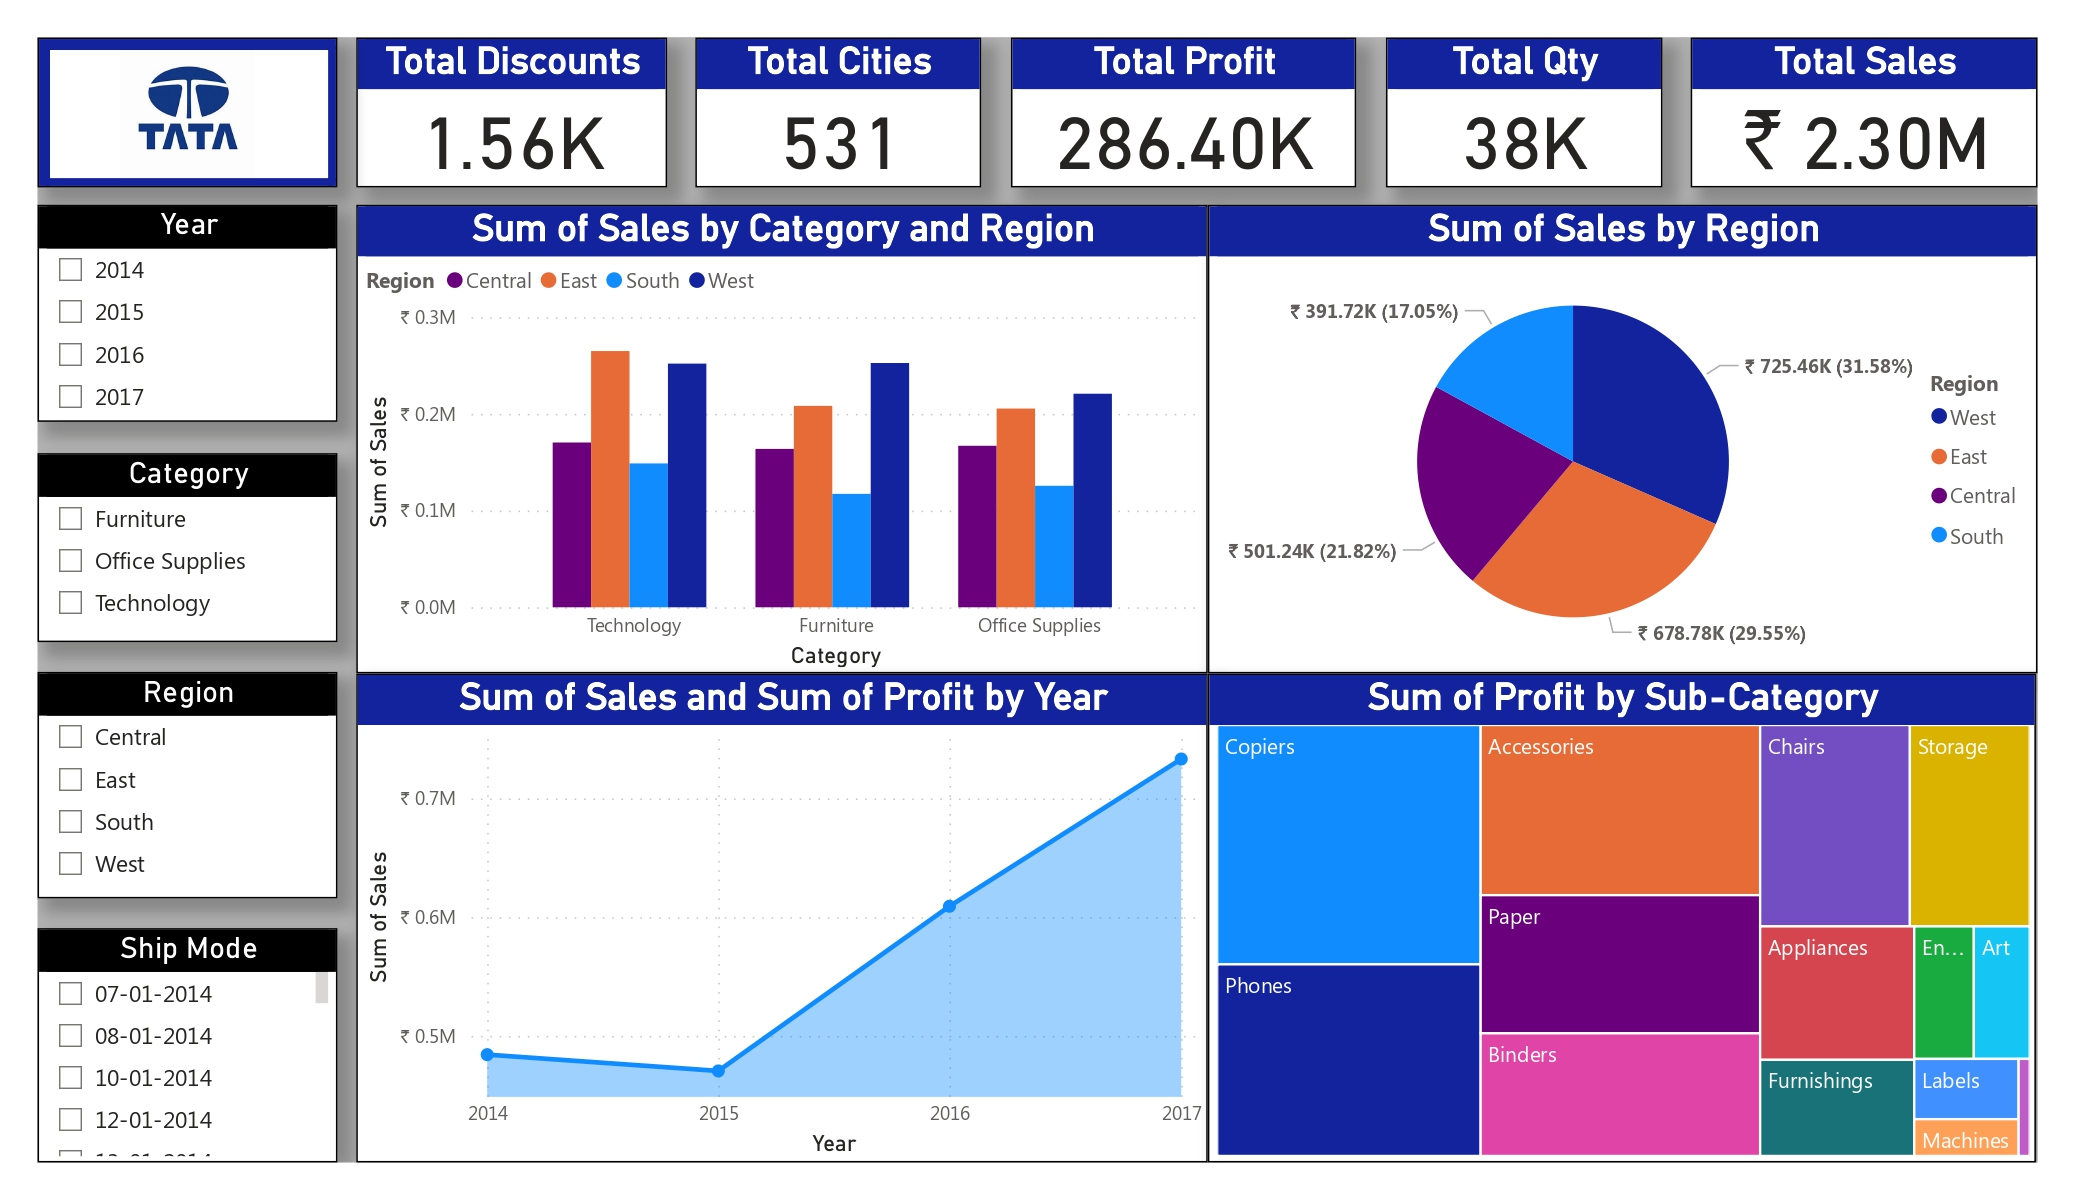

What the dashboard file says about the page in this screenshot:
{"tool":"powerbi","page":{"name":"Page 8","canvas":[1280,720],"ordinal":7},"visuals":[{"type":"card","title":"Total Sales","fields":{"Values":["Sum(Orders.Sales)"]},"box":[1058,0,221.7,96],"z":0},{"type":"card","title":"Total Cities","fields":{"Values":["Count(Orders.City)"]},"box":[421.1,0,183.1,96],"z":1000},{"type":"card","title":"Total Discounts","fields":{"Values":["Sum(Orders.Discount)"]},"box":[203.9,0,198.9,96],"z":2000},{"type":"card","title":"Total Profit","fields":{"Values":["Sum(Orders.Profit)"]},"box":[622.5,0,221.7,96],"z":3000},{"type":"card","title":"Total Qty","fields":{"Values":["Sum(Orders.Quantity)"]},"box":[862.5,0,177.2,96],"z":4000},{"type":"image","box":[0,0,192,96],"z":5000},{"type":"shape","box":[0,0,192,96],"z":6000},{"type":"slicer","title":"Year","fields":{"Values":["Orders.Order Date.Variation.Date Hierarchy.Year"]},"box":[0,106.9,192,139.5],"z":7000},{"type":"slicer","title":"Category","fields":{"Values":["Orders.Category"]},"box":[0,265.6,192,121.7],"z":8000},{"type":"slicer","title":"Region","fields":{"Values":["Orders.Region"]},"box":[0,406.4,192,144.5],"z":9000},{"type":"slicer","title":"Ship Mode","fields":{"Values":["Orders.Ship Date"]},"box":[0,569.6,192,150.4],"z":10000},{"type":"clusteredColumnChart","fields":{"Y":["Sum(Orders.Sales)"],"Category":["Orders.Category"],"Series":["Orders.Region"]},"box":[203.9,106.9,545.3,299.9],"z":11000},{"type":"pieChart","fields":{"Y":["Sum(Orders.Sales)"],"Category":["Orders.Region"]},"box":[749.2,106.9,530.5,299.9],"z":12000},{"type":"areaChart","fields":{"Y":["Sum(Orders.Sales)"],"Category":["Orders.Order Date.Variation.Date Hierarchy.Year"]},"box":[203.9,406.8,545.3,313.7],"z":13000},{"type":"treemap","fields":{"Values":["Sum(Orders.Profit)"],"Group":["Orders.Sub-Category"]},"box":[749,407,530,313],"z":14000}]}

Visuals, with their boxes on the page's 1280x720 design canvas (x1, y1, x2, y2). These are canvas units, not pixel positions in the 2075x1200 screenshot, which may show the page scaled, cropped or inside an application window:
"Total Sales" card: [left=1058, top=0, right=1280, bottom=96]
"Total Cities" card: [left=421, top=0, right=604, bottom=96]
"Total Discounts" card: [left=204, top=0, right=403, bottom=96]
"Total Profit" card: [left=622, top=0, right=844, bottom=96]
"Total Qty" card: [left=862, top=0, right=1040, bottom=96]
image: [left=0, top=0, right=192, bottom=96]
shape: [left=0, top=0, right=192, bottom=96]
"Year" slicer: [left=0, top=107, right=192, bottom=246]
"Category" slicer: [left=0, top=266, right=192, bottom=387]
"Region" slicer: [left=0, top=406, right=192, bottom=551]
"Ship Mode" slicer: [left=0, top=570, right=192, bottom=720]
clusteredColumnChart - Sum(Orders.Sales) x Orders.Category: [left=204, top=107, right=749, bottom=407]
pieChart - Sum(Orders.Sales) x Orders.Region: [left=749, top=107, right=1280, bottom=407]
areaChart - Sum(Orders.Sales) x Orders.Order Date.Variation.Date Hierarchy.Year: [left=204, top=407, right=749, bottom=720]
treemap - Sum(Orders.Profit) x Orders.Sub-Category: [left=749, top=407, right=1279, bottom=720]
